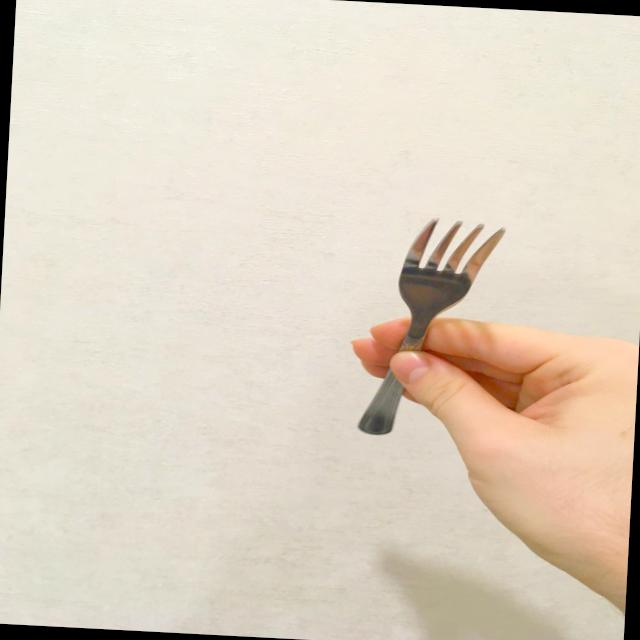fork: (357, 213, 510, 444)
